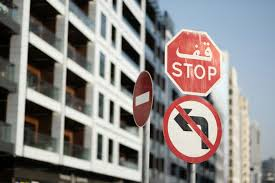stop sign: (163, 30, 221, 98)
